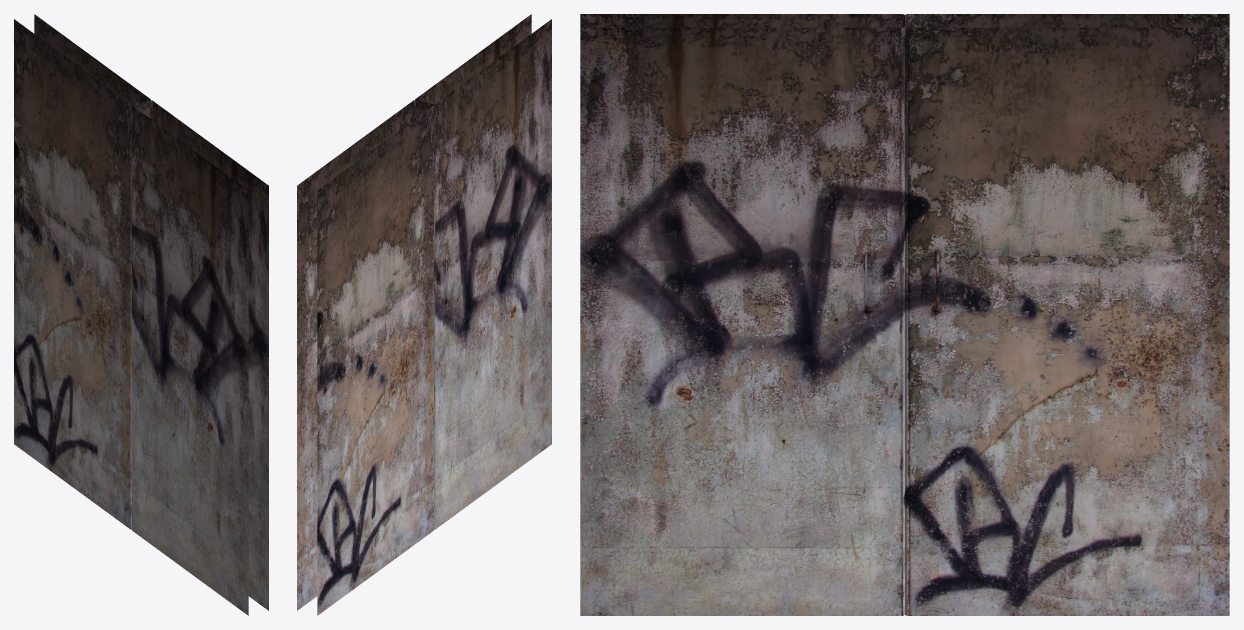
The model's file is elevator_left_door.obj.
The picture shows the model from 3 angles, left to right: view 1: azimuth 30°, elevation 25°; view 2: azimuth 150°, elevation 25°; view 3: azimuth 270°, elevation 25°; orthographic projection. The views are drawn at different scales.
Visible parts, largest first — view 1: ElevatorLeftDoor, ElevatorRightDoor; view 2: ElevatorRightDoor, ElevatorLeftDoor; view 3: ElevatorRightDoor, ElevatorLeftDoor.
Part boxes in pixels (x1=…): ElevatorLeftDoor: x1=132, y1=100, x2=268, y2=615; ElevatorRightDoor: x1=14, y1=14, x2=150, y2=529; ElevatorRightDoor: x1=297, y1=100, x2=433, y2=615; ElevatorLeftDoor: x1=415, y1=14, x2=551, y2=529; ElevatorRightDoor: x1=905, y1=14, x2=1229, y2=615; ElevatorLeftDoor: x1=580, y1=14, x2=904, y2=615.
Bounding box in the file's own units: 0.1 × 2 × 2.
1 material, 1 textured.
